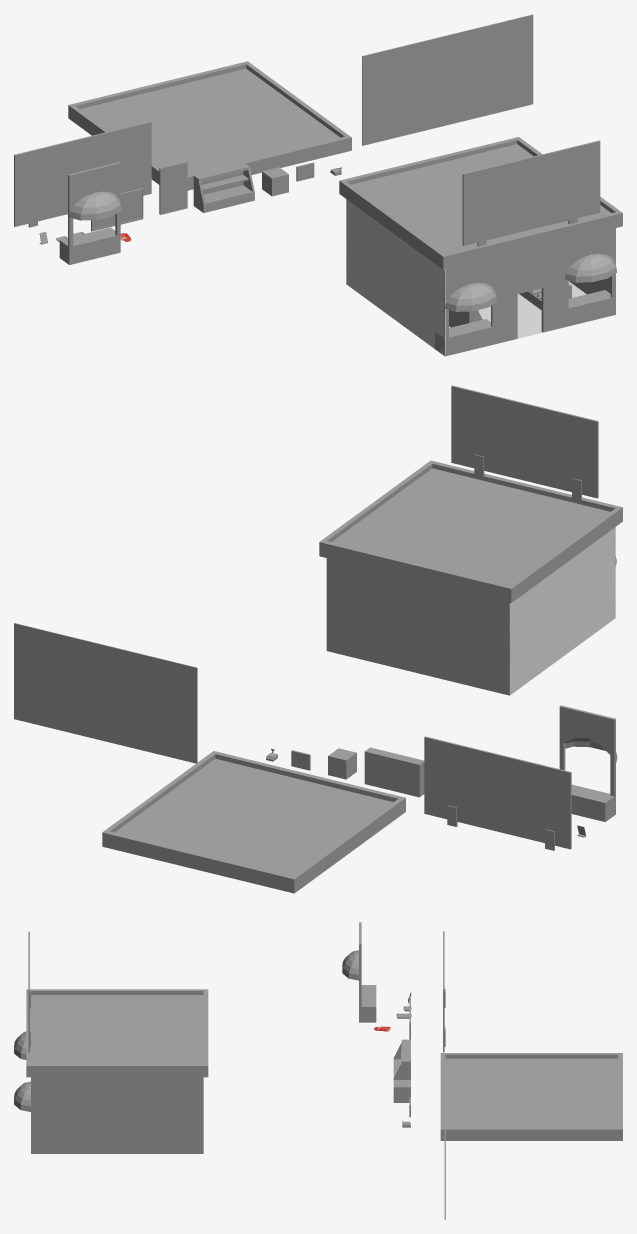
File: Test_Meat_Shop.fbx
3 renders of one model, top to bottom at view 1: azimuth 30°, elevation 25°; view 2: azimuth 150°, elevation 25°; view 3: azimuth 270°, elevation 25°, orthographic. The views are drawn at different scales.
Visible parts, largest first — view 1: Meat_Shop_Roof1, Meat_Shop_Wall, Meat_Shop_Roof, Meat_Shop_Billboard, pCube5, Meat_Shop_Billboard1, pCube7, Meat_Shop_Window, Meat_Shop_Window5, Meat_Shop_Window6, Meat_Shop_Shelves, Freezer_Door1 (+4 smaller); view 2: Meat_Shop_Roof1, Meat_Shop_Roof, Meat_Shop_Wall, pCube4, Meat_Shop_Billboard1, Meat_Shop_Billboard, pCube5, Meat_Shop_Window, Meat_Shop_Shelves, Meat_Shop_Counter; view 3: Meat_Shop_Roof, Meat_Shop_Roof1, pCube6, Meat_Shop_Window, Meat_Shop_Shelves, Meat_Shop_Window6.
Boxes of the visible parts, x1,y1,x2,y2 form: Meat_Shop_Roof1: (68,61,351,190); Meat_Shop_Wall: (362,14,533,145); Meat_Shop_Roof: (339,137,622,269); Meat_Shop_Billboard: (462,140,600,246); pCube5: (346,199,445,356); Meat_Shop_Billboard1: (14,121,151,227); pCube7: (496,240,564,343); Meat_Shop_Window: (59,162,121,264); Meat_Shop_Window5: (435,257,497,356); Meat_Shop_Window6: (564,228,617,327); Meat_Shop_Shelves: (193,163,254,212); Freezer_Door1: (159,161,187,214); Meat_Shop_Roof1: (102,751,405,893); Meat_Shop_Roof: (319,460,622,602); Meat_Shop_Wall: (14,623,197,763); pCube4: (326,558,510,695); Meat_Shop_Billboard1: (424,736,571,850); Meat_Shop_Billboard: (451,385,598,499); pCube5: (509,527,615,695); Meat_Shop_Window: (559,705,617,821); Meat_Shop_Shelves: (364,747,424,797); Meat_Shop_Counter: (328,748,356,779); Meat_Shop_Roof: (26,989,208,1077); Meat_Shop_Roof1: (440,1053,622,1140); pCube6: (31,1077,203,1153); Meat_Shop_Window: (342,922,376,1022); Meat_Shop_Shelves: (393,1039,410,1079); Meat_Shop_Window6: (14,1077,48,1153).
Bounding box in the file's own units: 30.38 × 10 × 35.26.
